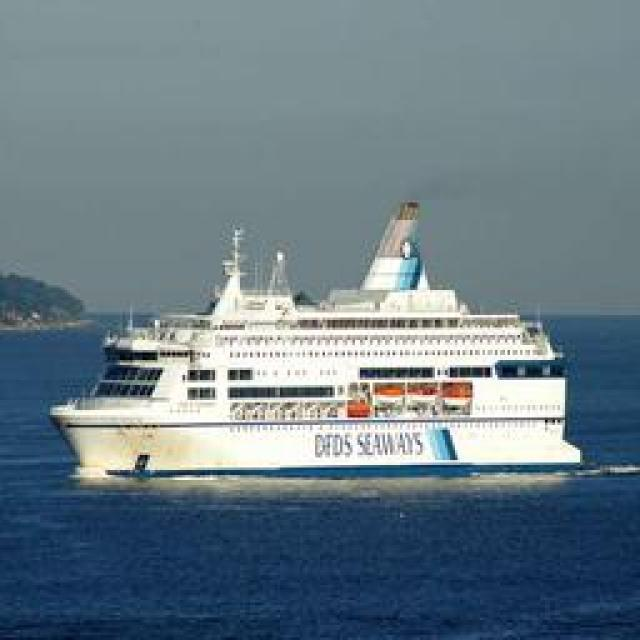ship2: (48, 202, 590, 487)
